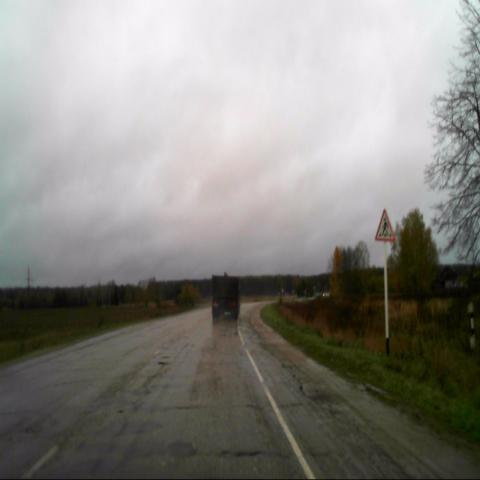1_22: (374, 207, 396, 242)
